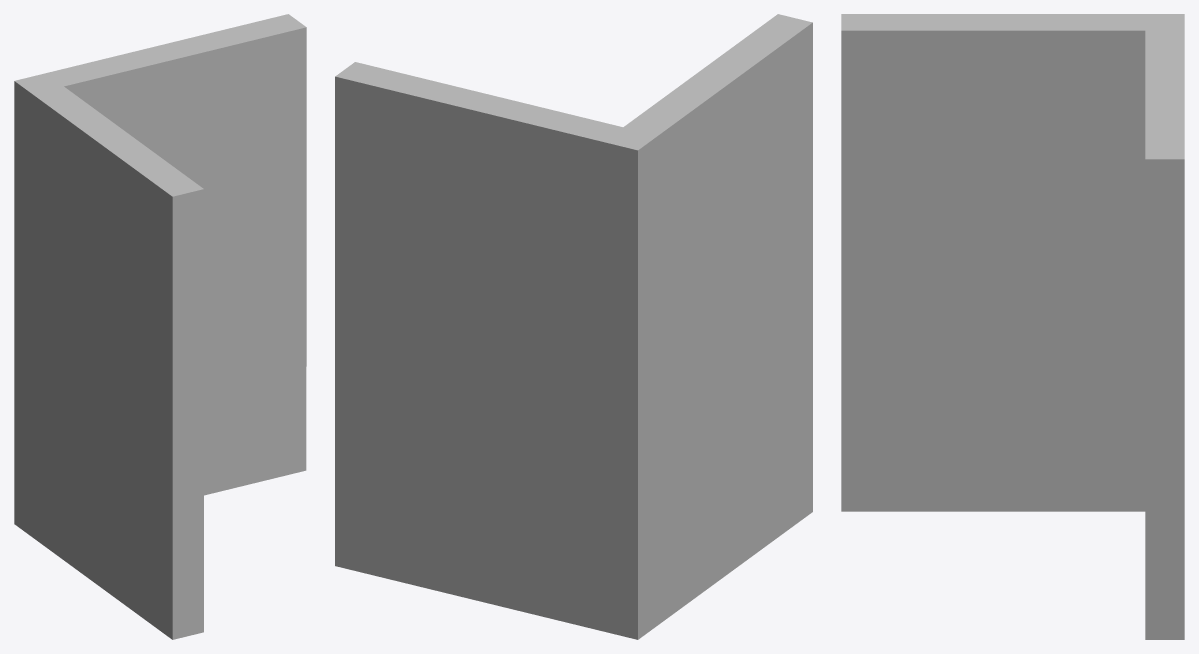
Rendered from Itr_Desk_Back2_06.FBX.
3 renders of one model, left to right at view 1: azimuth 30°, elevation 25°; view 2: azimuth 150°, elevation 25°; view 3: azimuth 270°, elevation 25°, orthographic. The views are drawn at different scales.
Parts seen in each view (by area): view 1: Itr_Desk_Back2_06; view 2: Itr_Desk_Back2_06; view 3: Itr_Desk_Back2_06.
Boxes of the visible parts, x1,y1,x2,y2 form: Itr_Desk_Back2_06: (14, 14, 306, 639); Itr_Desk_Back2_06: (335, 14, 812, 639); Itr_Desk_Back2_06: (841, 14, 1184, 639).
Size of the model in its own units: 17.79 by 27.48 by 17.79.
